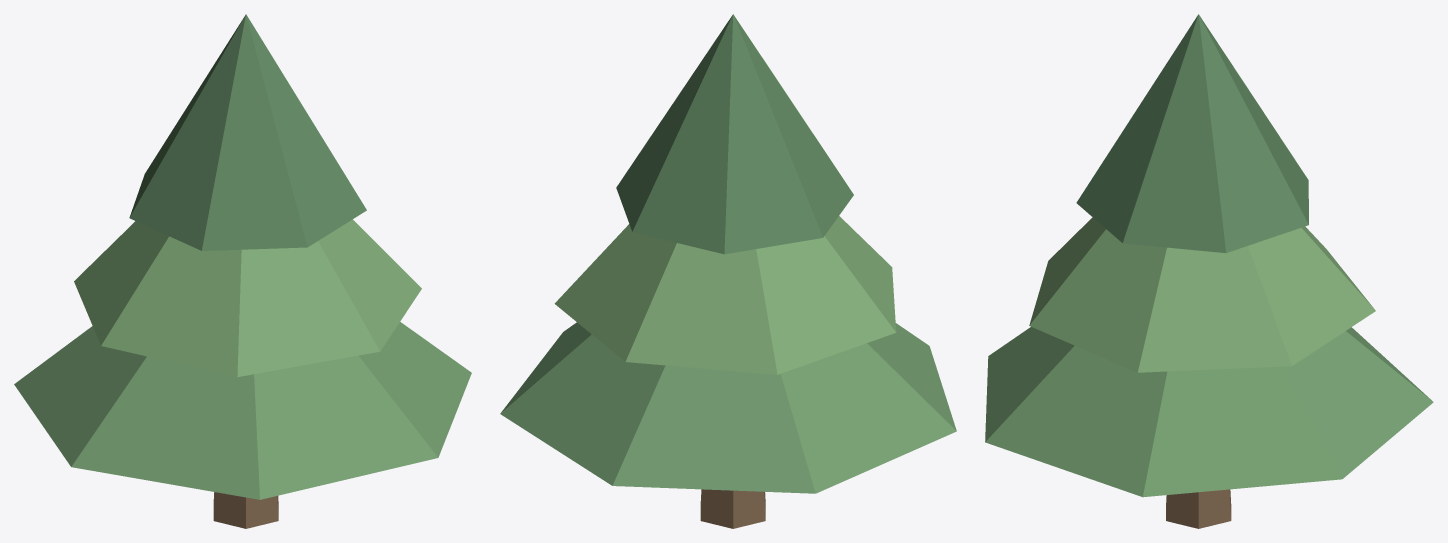
File: valak_pinheiro_0.glb
The picture shows the model from 3 angles, left to right: view 1: azimuth 30°, elevation 25°; view 2: azimuth 150°, elevation 25°; view 3: azimuth 270°, elevation 25°; orthographic projection.
Visible parts, largest first — view 1: pinheiro; view 2: pinheiro; view 3: pinheiro.
Part boxes in pixels (x1,y1,x2,y2): pinheiro: (14,14,471,528); pinheiro: (500,14,956,528); pinheiro: (985,14,1433,528).
Bounding box in the file's own units: 1.46 × 1.76 × 1.43.
